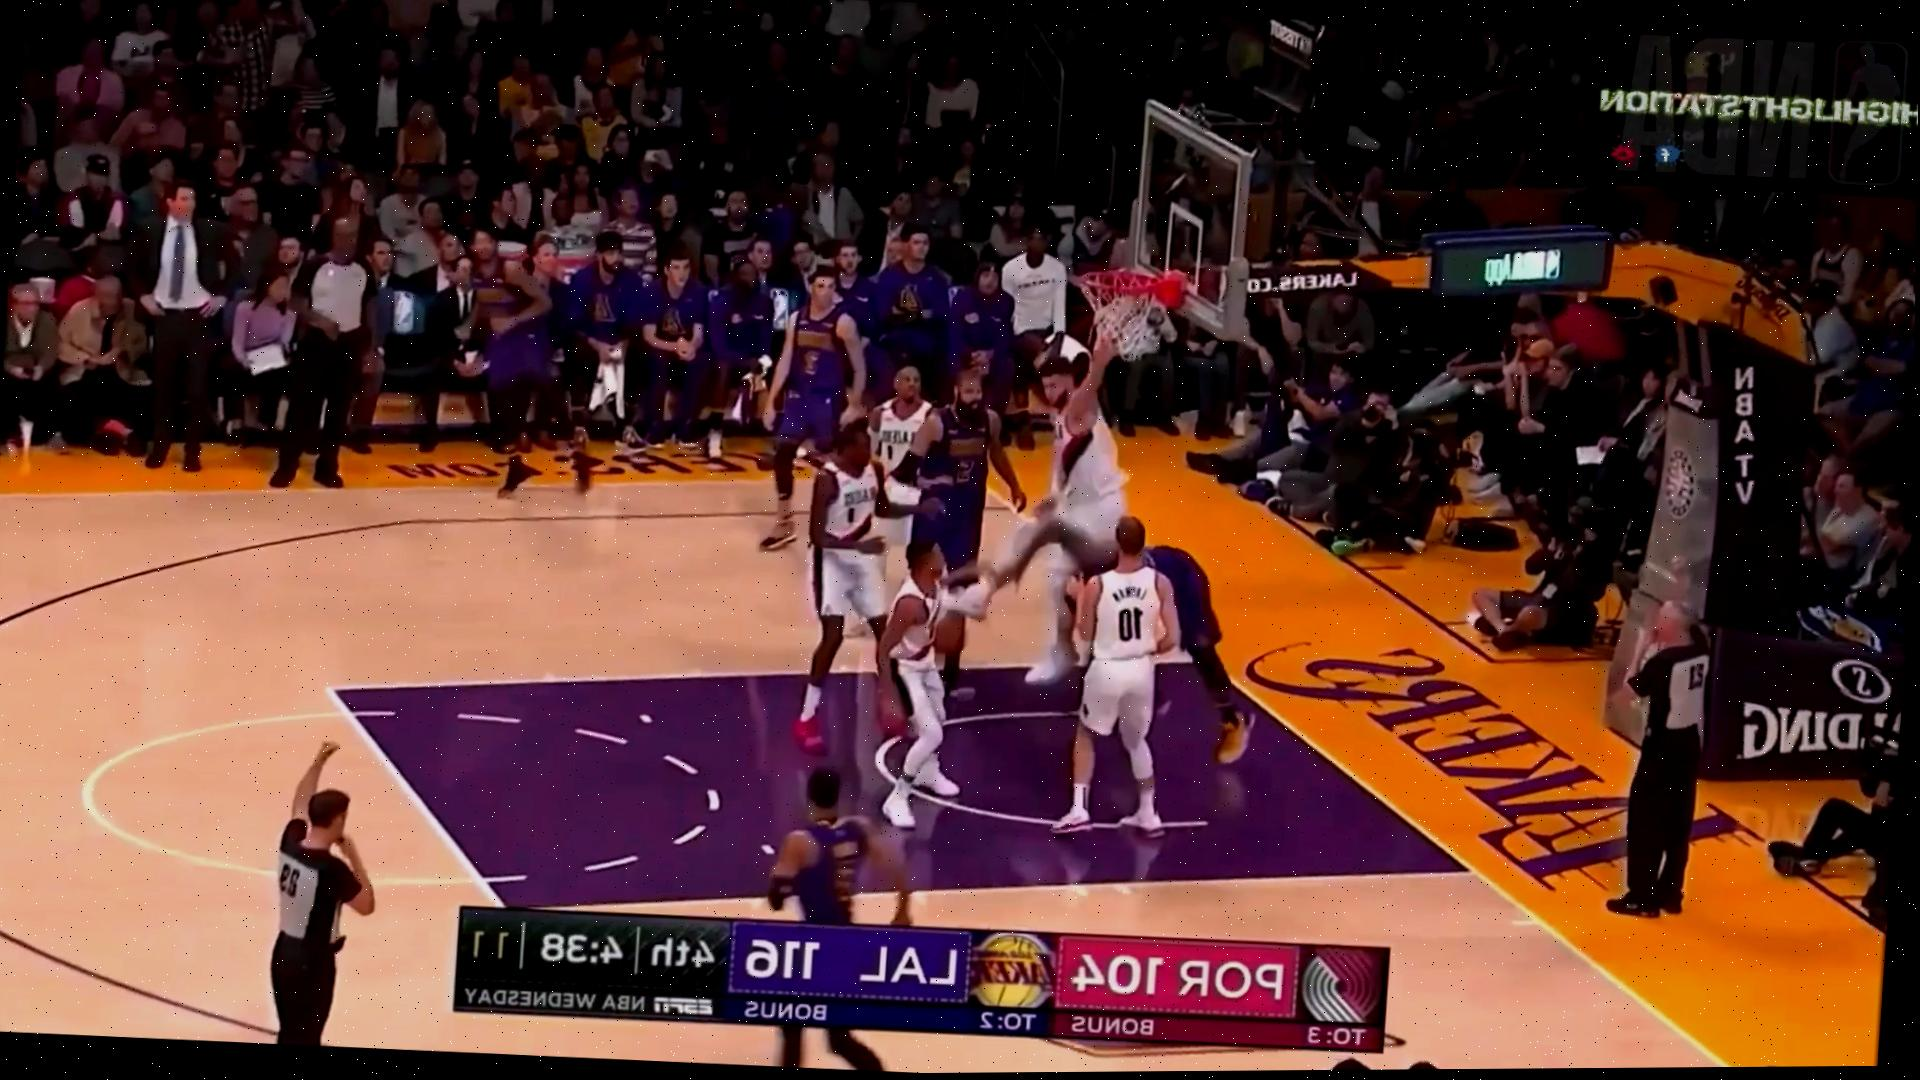no_foul: (998, 502, 1271, 815)
